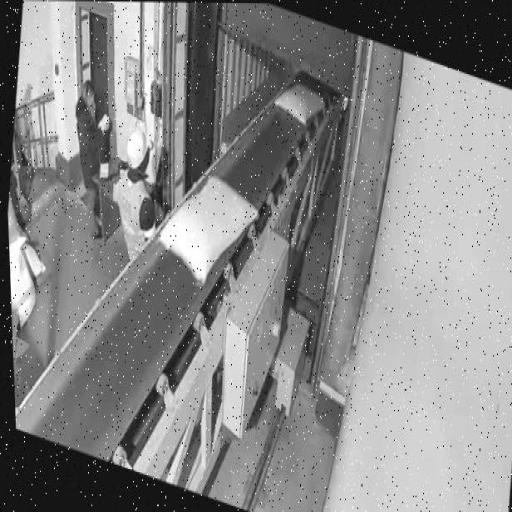c-belt-sack-count: (160, 178, 256, 284), (274, 83, 322, 124)
